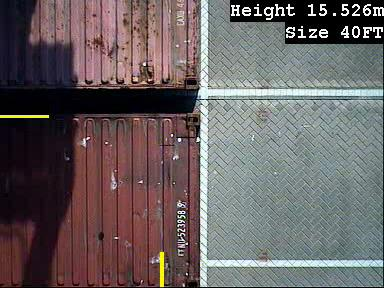groundmarker_2: (198, 232, 241, 288), (197, 67, 240, 122)
